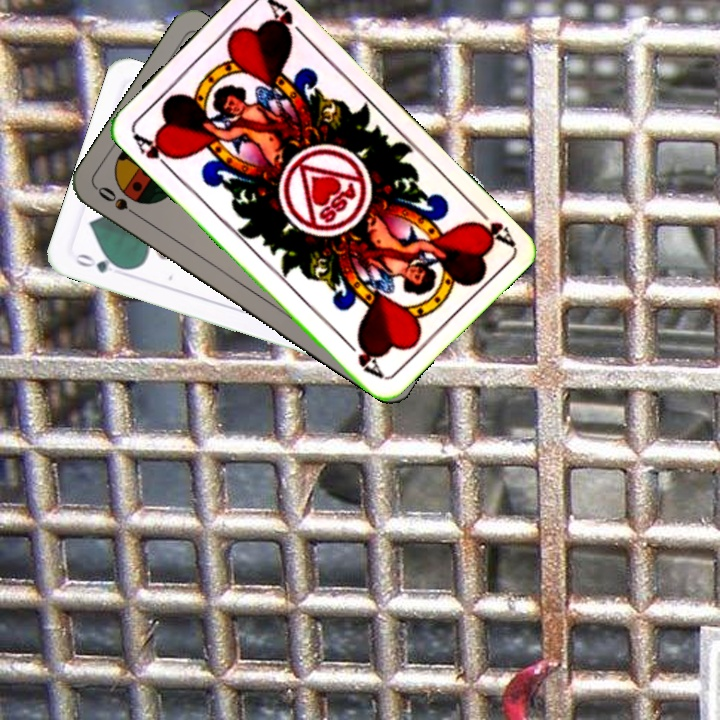GO: (71, 249, 129, 276)
HA: (463, 201, 516, 249), (128, 129, 179, 175)
SO: (93, 182, 145, 222)
